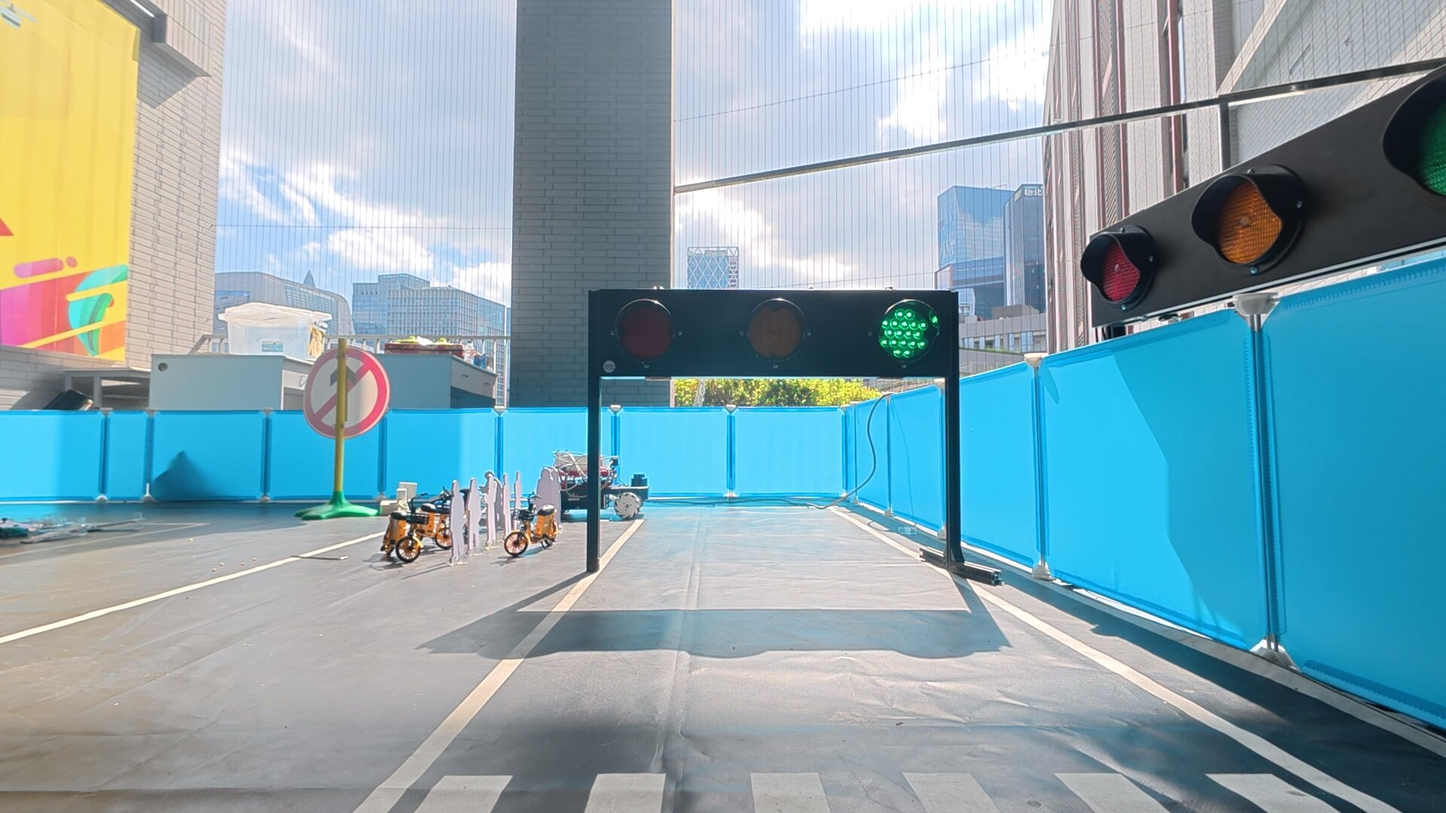go: (877, 301, 941, 367)
